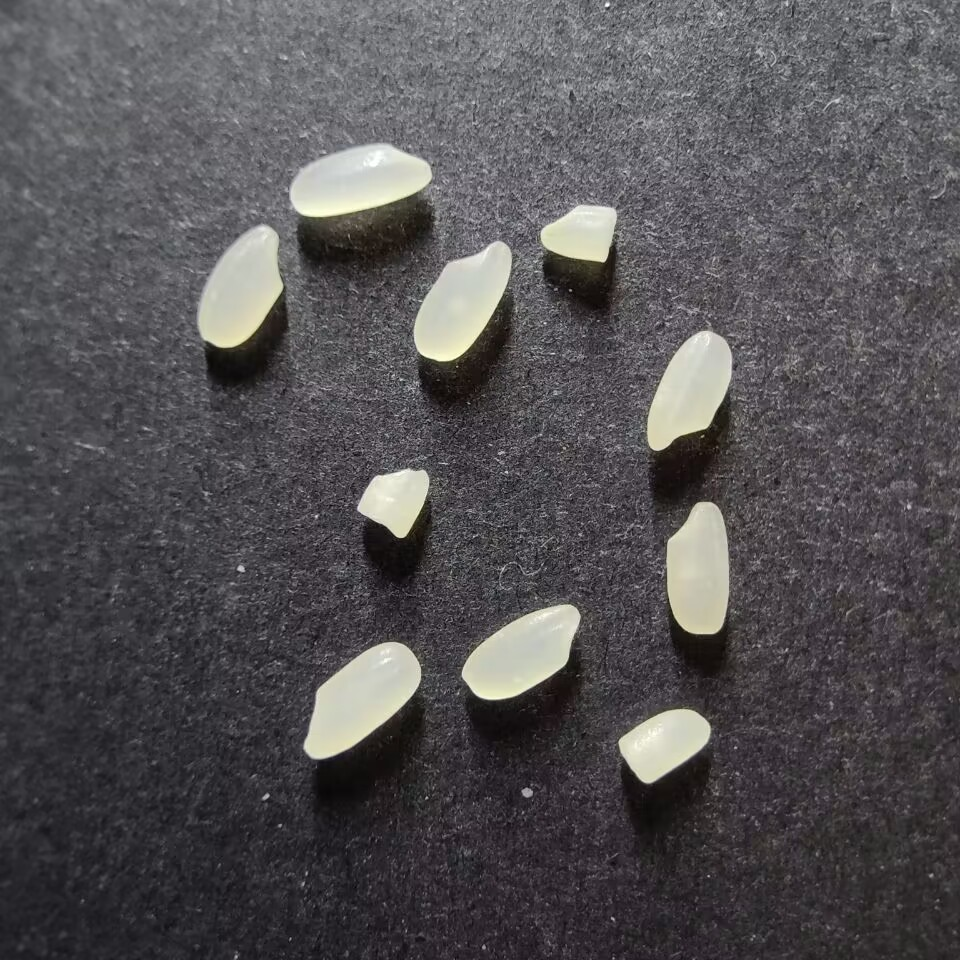broken: (618, 708, 710, 784), (356, 468, 429, 539), (539, 204, 616, 263)
rice: (301, 641, 421, 760), (412, 241, 511, 361), (461, 603, 580, 700), (197, 224, 283, 348), (646, 330, 732, 451), (289, 144, 432, 216), (665, 501, 728, 635)
